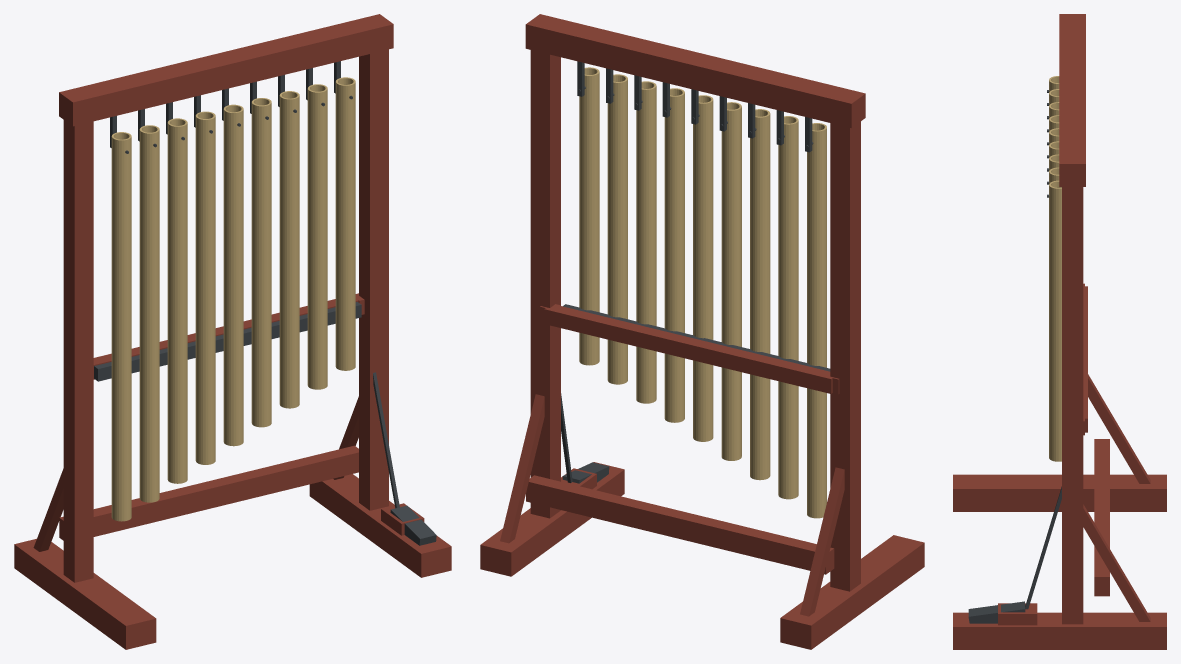
3 renders of one model, left to right at view 1: azimuth 30°, elevation 25°; view 2: azimuth 150°, elevation 25°; view 3: azimuth 270°, elevation 25°, orthographic. The views are drawn at different scales.
Visible parts, largest first — view 1: LeftWholePortalUpright, RightWholePortalUpright, WholeOverheadSuspensionCrossbeam, WholeOpenEndedSuspendedTube_00, WholeOpenEndedSuspendedTube_01, WholeOpenEndedSuspendedTube_02, WholeOpenEndedSuspendedTube_03, WholeLowCrossStretcher, WholeOpenEndedSuspendedTube_04, WholeOpenEndedSuspendedTube_05, WholeOpenEndedSuspendedTube_06, WholeOpenEndedSuspendedTube_07 (+8 smaller); view 2: LeftWholePortalUpright, WholeOverheadSuspensionCrossbeam, RightWholePortalUpright, WholeLowCrossStretcher, WholeOpenEndedSuspendedTube_01, WholeOpenEndedSuspendedTube_00, WholeOpenEndedSuspendedTube_02, WholeOpenEndedSuspendedTube_03, WholeOpenEndedSuspendedTube_04, WholeRearDamperBacking, WholeOpenEndedSuspendedTube_05, LeftGroundFootRunner (+7 smaller); view 3: RightWholePortalUpright, RightGroundFootRunner, LeftGroundFootRunner, WholeOverheadSuspensionCrossbeam, WholeOpenEndedSuspendedTube_08, WholeLowCrossStretcher, RightRearLowerBrace, LeftRearLowerBrace, WholeFixedPedal, WholeRearDamperBacking, WholePedalRootBlock, WholeFixedPedalLink.
Part boxes in pixels (x1,y1,x2,y2): LeftWholePortalUpright: (63,120,93,582); RightWholePortalUpright: (359,49,388,510); WholeOverheadSuspensionCrossbeam: (59,14,393,126); WholeOpenEndedSuspendedTube_00: (111,132,131,521); WholeOpenEndedSuspendedTube_01: (139,125,159,502); WholeOpenEndedSuspendedTube_02: (167,118,187,483); WholeOpenEndedSuspendedTube_03: (195,111,215,464); WholeLowCrossStretcher: (59,445,358,540); WholeOpenEndedSuspendedTube_04: (223,104,243,446); WholeOpenEndedSuspendedTube_05: (251,98,271,427); WholeOpenEndedSuspendedTube_06: (279,91,299,408); WholeOpenEndedSuspendedTube_07: (307,84,327,389); LeftWholePortalUpright: (830,121,860,591); WholeOverheadSuspensionCrossbeam: (525,14,865,127); RightWholePortalUpright: (530,50,560,518); WholeLowCrossStretcher: (526,475,834,574); WholeOpenEndedSuspendedTube_01: (778,116,798,499); WholeOpenEndedSuspendedTube_00: (807,123,826,518); WholeOpenEndedSuspendedTube_02: (750,109,770,480); WholeOpenEndedSuspendedTube_03: (721,102,741,460); WholeOpenEndedSuspendedTube_04: (693,95,713,441); WholeRearDamperBacking: (544,305,833,393); WholeOpenEndedSuspendedTube_05: (664,88,684,422); LeftGroundFootRunner: (780,535,924,649); RightWholePortalUpright: (1062,187,1083,624); RightGroundFootRunner: (953,612,1166,649); LeftGroundFootRunner: (953,474,1166,511); WholeOverheadSuspensionCrossbeam: (1059,14,1085,186); WholeOpenEndedSuspendedTube_08: (1049,180,1061,461); WholeLowCrossStretcher: (1094,439,1109,596); RightRearLowerBrace: (1083,504,1150,621); LeftRearLowerBrace: (1088,374,1150,483); WholeFixedPedal: (968,601,1025,623); WholeRearDamperBacking: (1083,286,1087,432); WholePedalRootBlock: (998,603,1037,625); WholeFixedPedalLink: (1025,486,1061,609).
Bounding box in the file's own units: 1.28 × 1.9 × 0.76.
